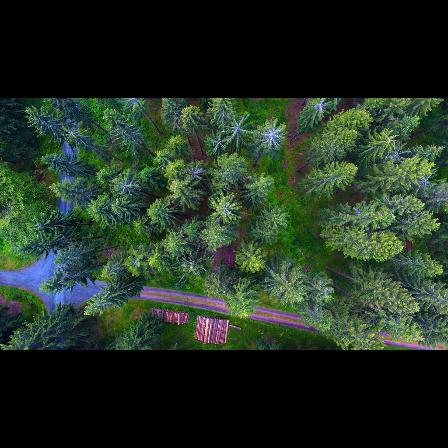Sick: (254, 120, 289, 154), (222, 114, 256, 144), (115, 173, 139, 200), (386, 146, 411, 166), (206, 133, 228, 154)
